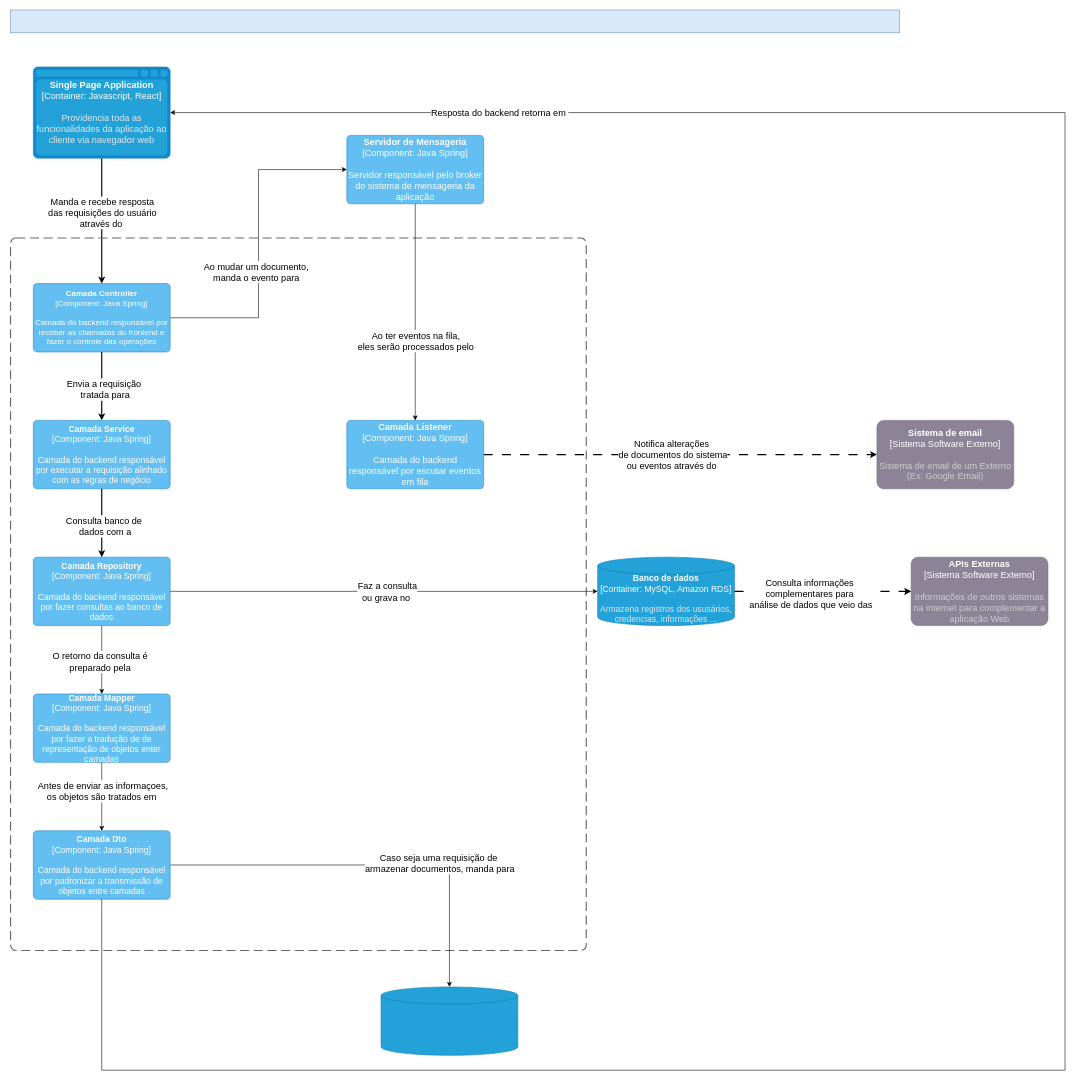
Some shapes in this 1080 by 1085 pixel diagram are drawn without their labels. Each missing label, with the box of its shape:
Arquitetura de Software Arandu Digital modelo C4 - Nível 3 - Componente Backend: (10, 9, 900, 33)
Backend da Aplicação [Container]: (10, 237, 587, 951)
Bucket de documentos [Container: AWS S3] Armazena documentos do clube: (380, 986, 518, 1055)
